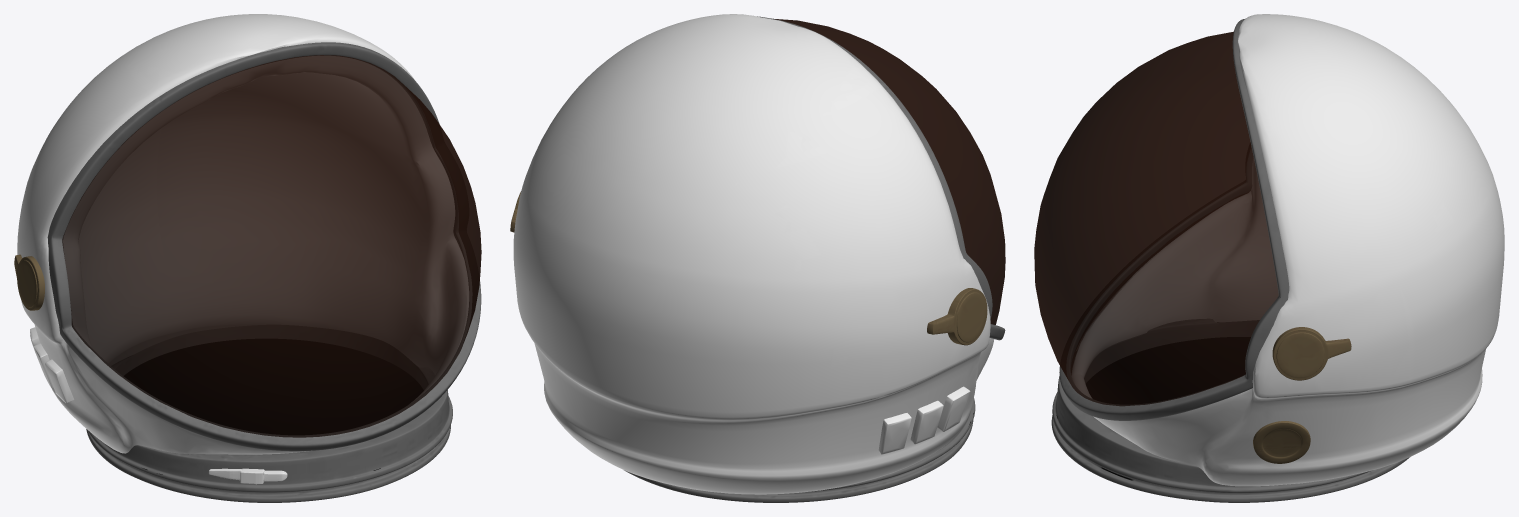
The model's file is astronaut-helmet-transformed.glb.
3 renders of one model, left to right at view 1: azimuth 30°, elevation 25°; view 2: azimuth 150°, elevation 25°; view 3: azimuth 270°, elevation 25°, orthographic. The views are drawn at different scales.
Parts seen in each view (by area): view 1: Visor.001, Helmet .001, Coupling.001, Partition.001, Helmet - metal.001, Attachment.001, Accessory - side.001, Accessory.001; view 2: Helmet .001, Visor.001, Coupling.001, Accessory - side.001, Attachment.001, Helmet - metal.001; view 3: Helmet .001, Visor.001, Coupling.001, Helmet - metal.001, Partition.001, Attachment.001, Port.001.
Boxes of the visible parts, box(x1,y1,x2,y2) form: Visor.001: box(62, 55, 481, 437); Helmet .001: box(17, 14, 468, 454); Coupling.001: box(86, 325, 452, 502); Partition.001: box(124, 339, 423, 434); Helmet - metal.001: box(47, 42, 481, 451); Attachment.001: box(14, 254, 44, 310); Accessory - side.001: box(30, 327, 74, 403); Accessory.001: box(208, 468, 287, 484); Helmet .001: box(513, 14, 993, 494); Visor.001: box(773, 18, 1005, 324); Coupling.001: box(624, 398, 975, 502); Accessory - side.001: box(878, 386, 970, 454); Attachment.001: box(510, 191, 987, 345); Helmet - metal.001: box(757, 16, 1005, 340); Helmet .001: box(1072, 14, 1504, 486); Visor.001: box(1034, 31, 1278, 406); Coupling.001: box(1051, 319, 1409, 502); Helmet - metal.001: box(1059, 18, 1289, 420); Partition.001: box(1086, 337, 1250, 404); Attachment.001: box(1272, 327, 1351, 380); Port.001: box(1253, 421, 1310, 463).
Size of the model in its own units: 1.1 by 0.9339 by 1.02.
4 materials, 2 textured.
